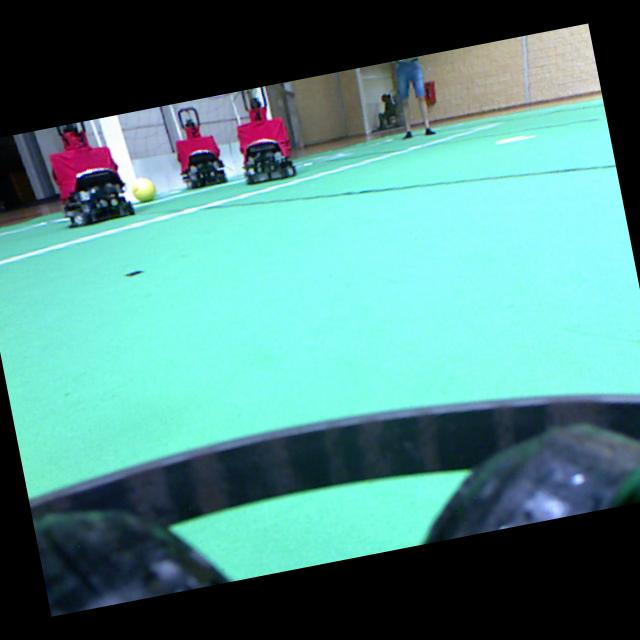ball: (132, 177, 155, 202)
